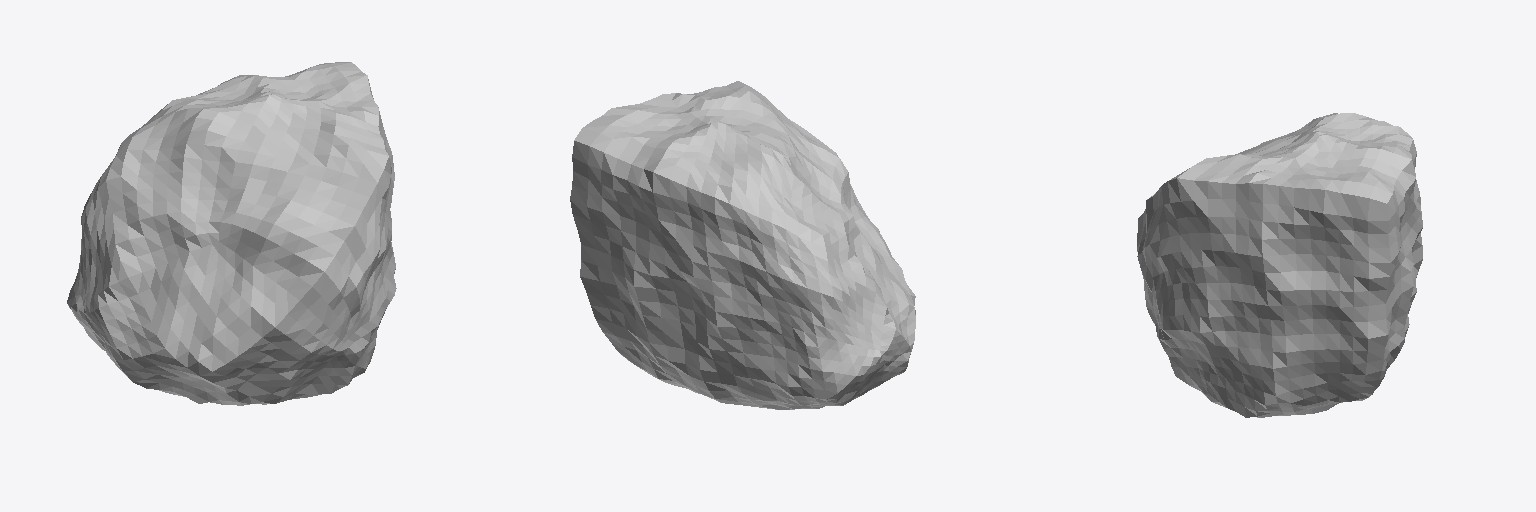
The model's file is asteroid_003.obj.
3 views of the same model, side by side, from view 1: azimuth 30°, elevation 25°; view 2: azimuth 150°, elevation 25°; view 3: azimuth 270°, elevation 25° (orthographic).
Visible parts, largest first — view 1: rock; view 2: rock; view 3: rock.
Boxes of the visible parts, box(x1,y1,x2,y2) form: rock: box(67, 62, 396, 405); rock: box(570, 81, 915, 409); rock: box(1137, 113, 1422, 417).
Bounding box in the file's own units: 3.72 × 3.41 × 3.17.